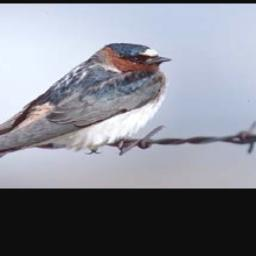Swallow: (0, 42, 169, 170)
